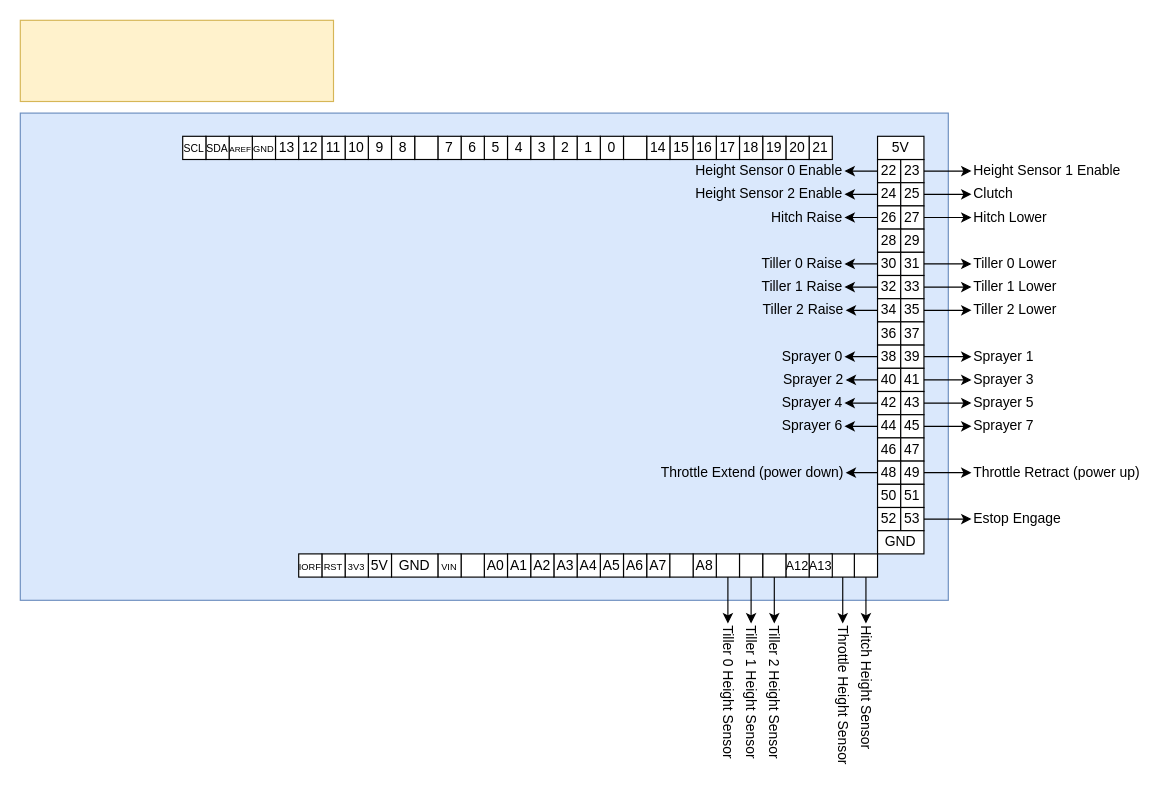
The diagram is 1166 pixels wide and 796 high, and some of its shapes have lost their labels. The shapes that lost their labels are listed below. From the top down, each one's box as (x1, y1, x2, y2) in pixels, then its label:
(19, 19, 334, 102): To edit this document, open the *.drawio file in https://diagrams.net.
(19, 112, 948, 600): ARDUINO
(715, 553, 740, 577): A9
(738, 553, 763, 577): A10
(762, 553, 786, 577): A11
(830, 553, 854, 577): A14
(853, 553, 878, 577): A15
